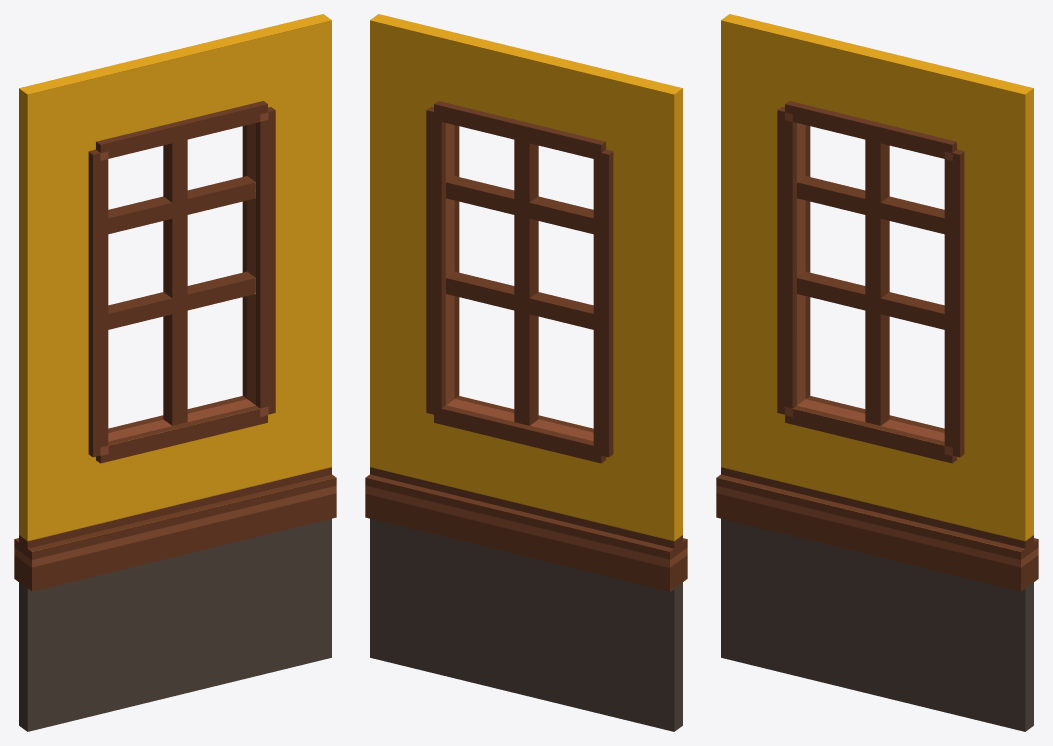
The model's file is IKEA_Window.fbx.
The picture shows the model from 3 angles, left to right: view 1: azimuth 30°, elevation 25°; view 2: azimuth 150°, elevation 25°; view 3: azimuth 330°, elevation 25°; orthographic projection.
Visible parts, largest first — view 1: IKEA_Window; view 2: IKEA_Window; view 3: IKEA_Window.
Part boxes in pixels (box(x1,y1,x2,y2)): IKEA_Window: box(14, 14, 336, 731); IKEA_Window: box(365, 14, 687, 731); IKEA_Window: box(716, 14, 1038, 731).
Size of the model in its own units: 400 by 800 by 40.
